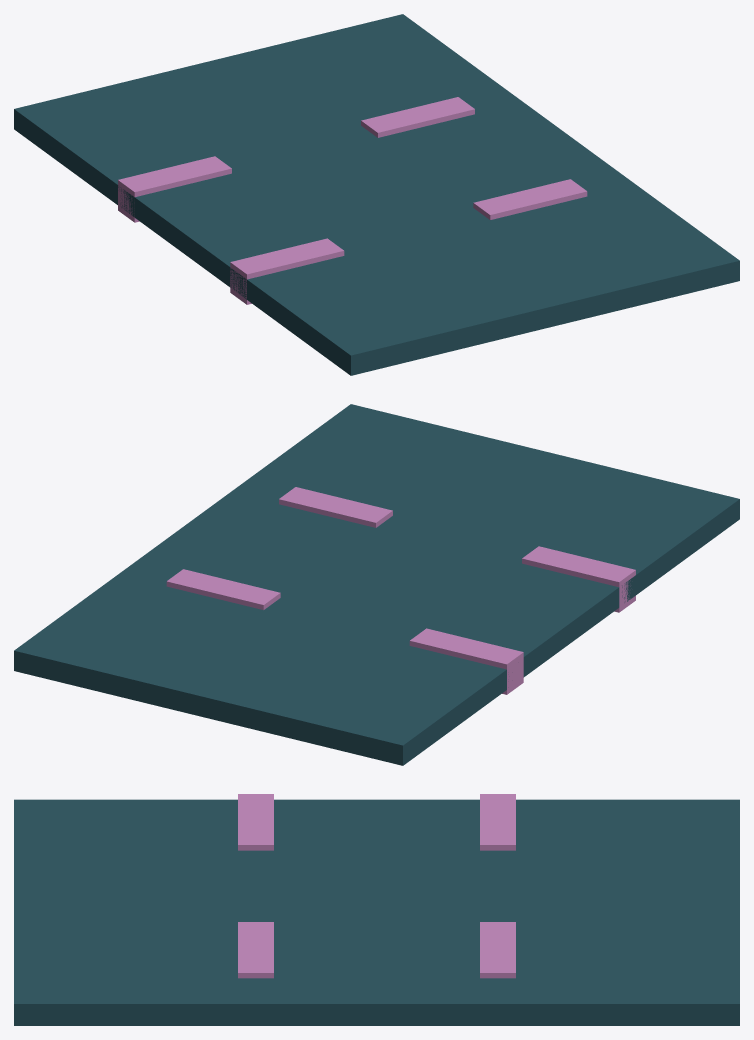
Rendered from weg1.obj.
The picture shows the model from 3 angles, top to bottom: view 1: azimuth 30°, elevation 25°; view 2: azimuth 150°, elevation 25°; view 3: azimuth 270°, elevation 25°; orthographic projection. The views are drawn at different scales.
Parts seen in each view (by area): view 1: Cube, Cube.002, Cube.004, Cube.003, Cube.001; view 2: Cube, Cube.004, Cube.002, Cube.001, Cube.003; view 3: Cube, Cube.001, Cube.002, Cube.003, Cube.004.
Part boxes in pixels (<box>): Cube: <box>14,14,739,375</box>; Cube.002: <box>230,238,344,304</box>; Cube.004: <box>118,156,231,222</box>; Cube.003: <box>473,179,587,219</box>; Cube.001: <box>361,97,474,137</box>; Cube: <box>14,404,739,765</box>; Cube.004: <box>409,628,523,694</box>; Cube.002: <box>522,546,635,612</box>; Cube.001: <box>166,569,280,609</box>; Cube.003: <box>279,487,392,527</box>; Cube: <box>14,799,739,1025</box>; Cube.001: <box>480,922,515,978</box>; Cube.002: <box>238,794,273,850</box>; Cube.003: <box>238,922,273,978</box>; Cube.004: <box>480,794,515,850</box>.
Size of the model in its own units: 8 by 0.6 by 12.
